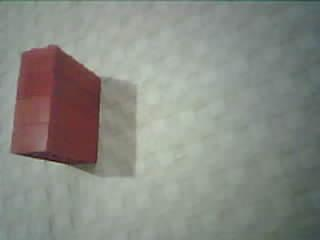lego: (7, 44, 101, 168)
